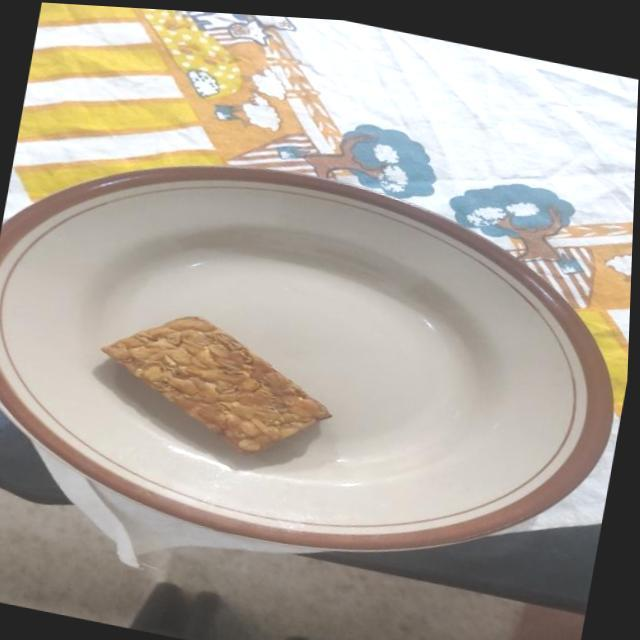tempe_goreng: (102, 316, 331, 452)
